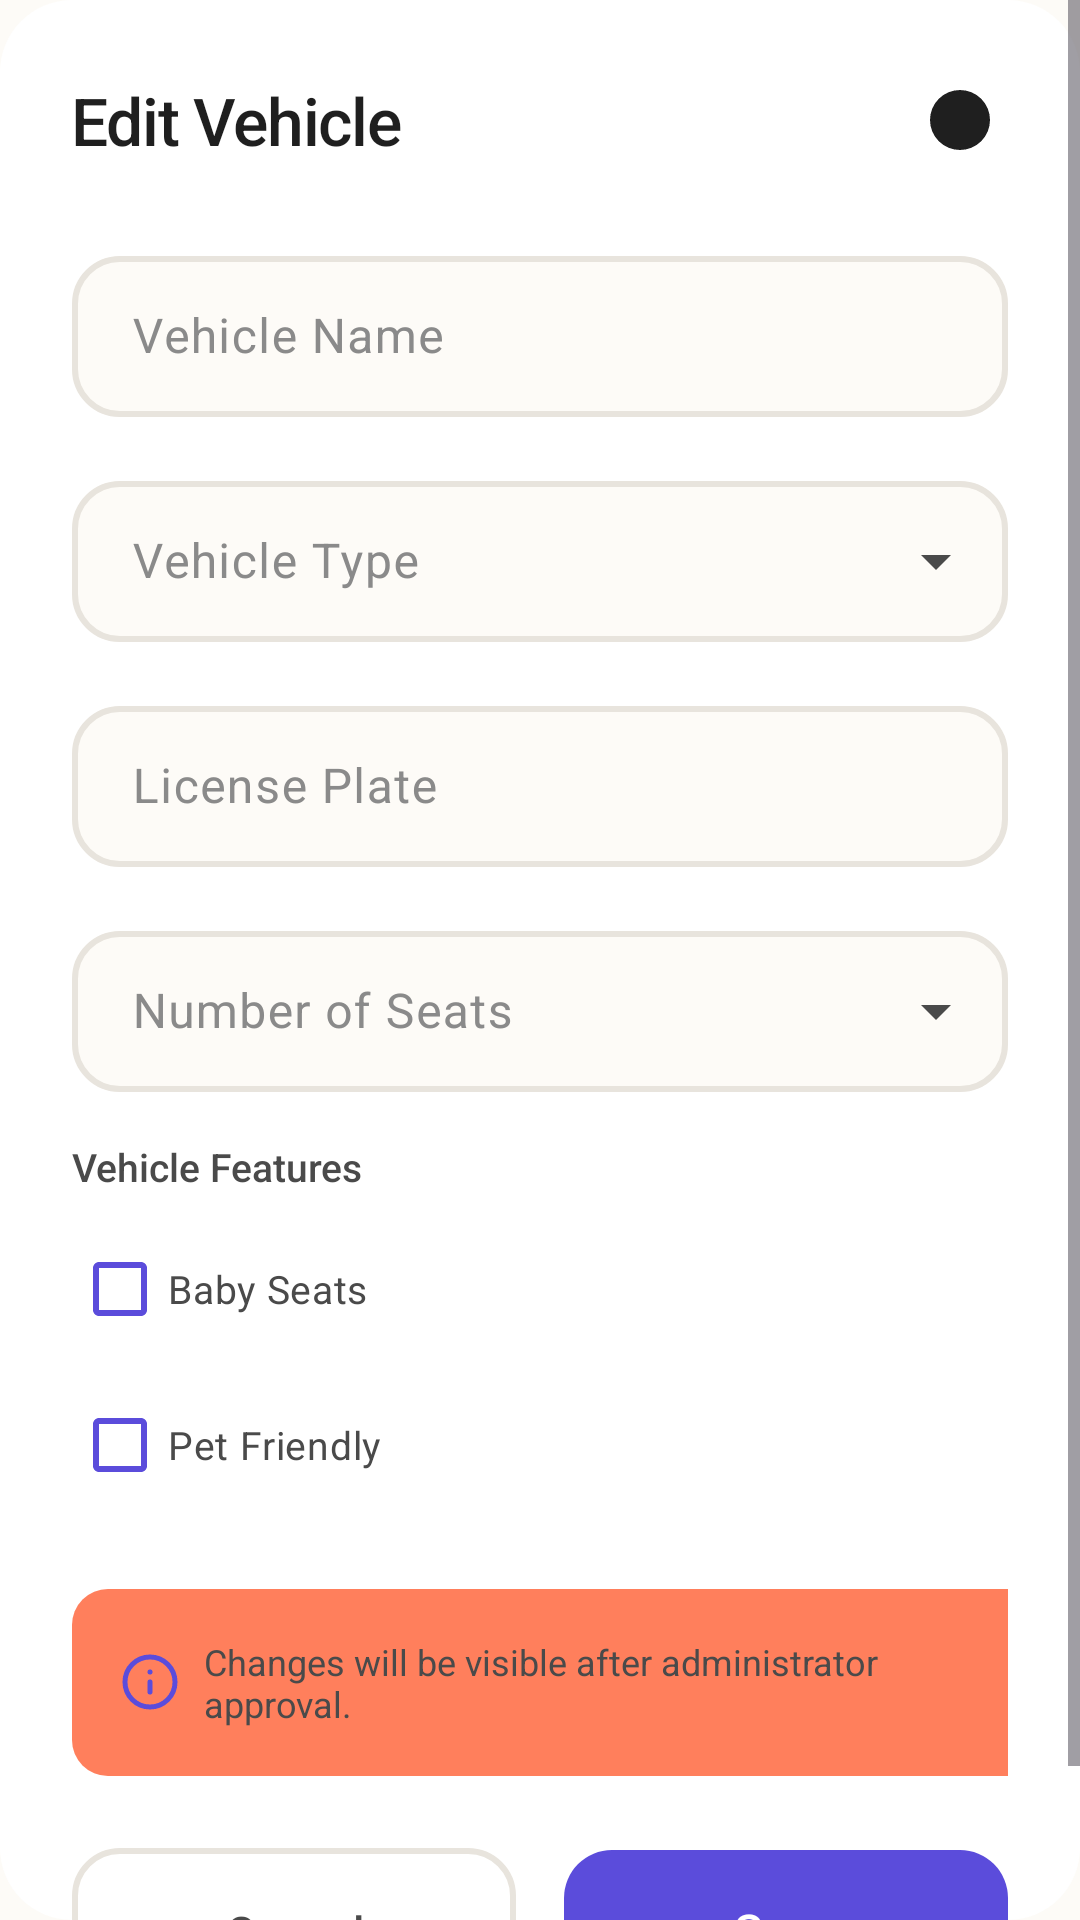

Icons on this 1080*1920 Android screen, each with the point to tap as (x,y):
info: (150,1682)
